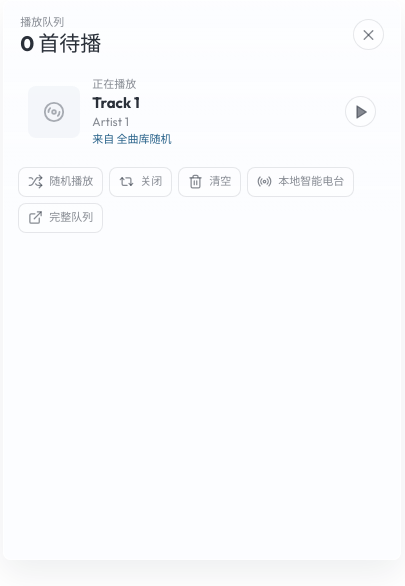
Test case: PlaybackQueueDrawer › enables local smart radio and buffers a locally recommended track
Step 1. Click the button "本地智能电台" → (301, 182), box [247,167,354,197]
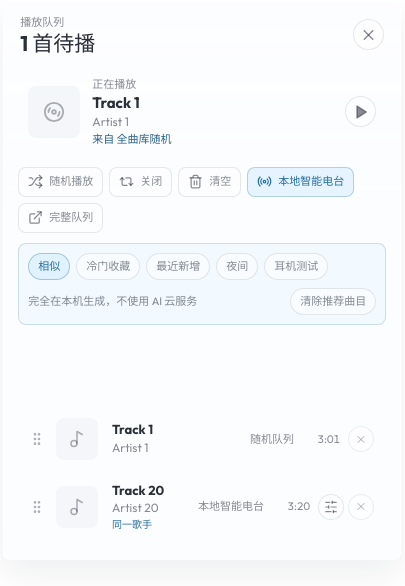
Now the text "同一歌手" is shown, box [112,518,152,530]
Now the text "完全在本机生成，不使用 AI 云服务" is shown, box [28,294,197,308]
